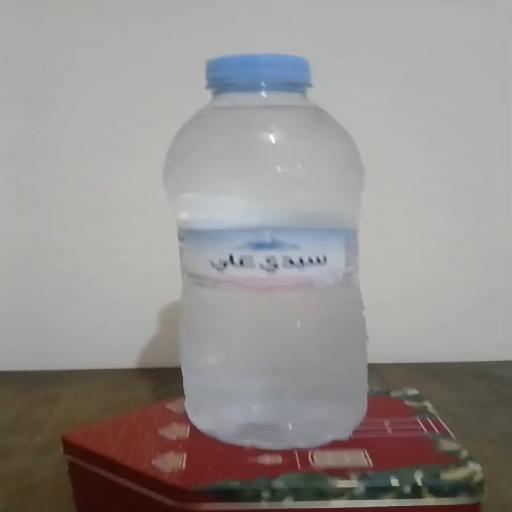bouteille conformite: (164, 53, 367, 449)
